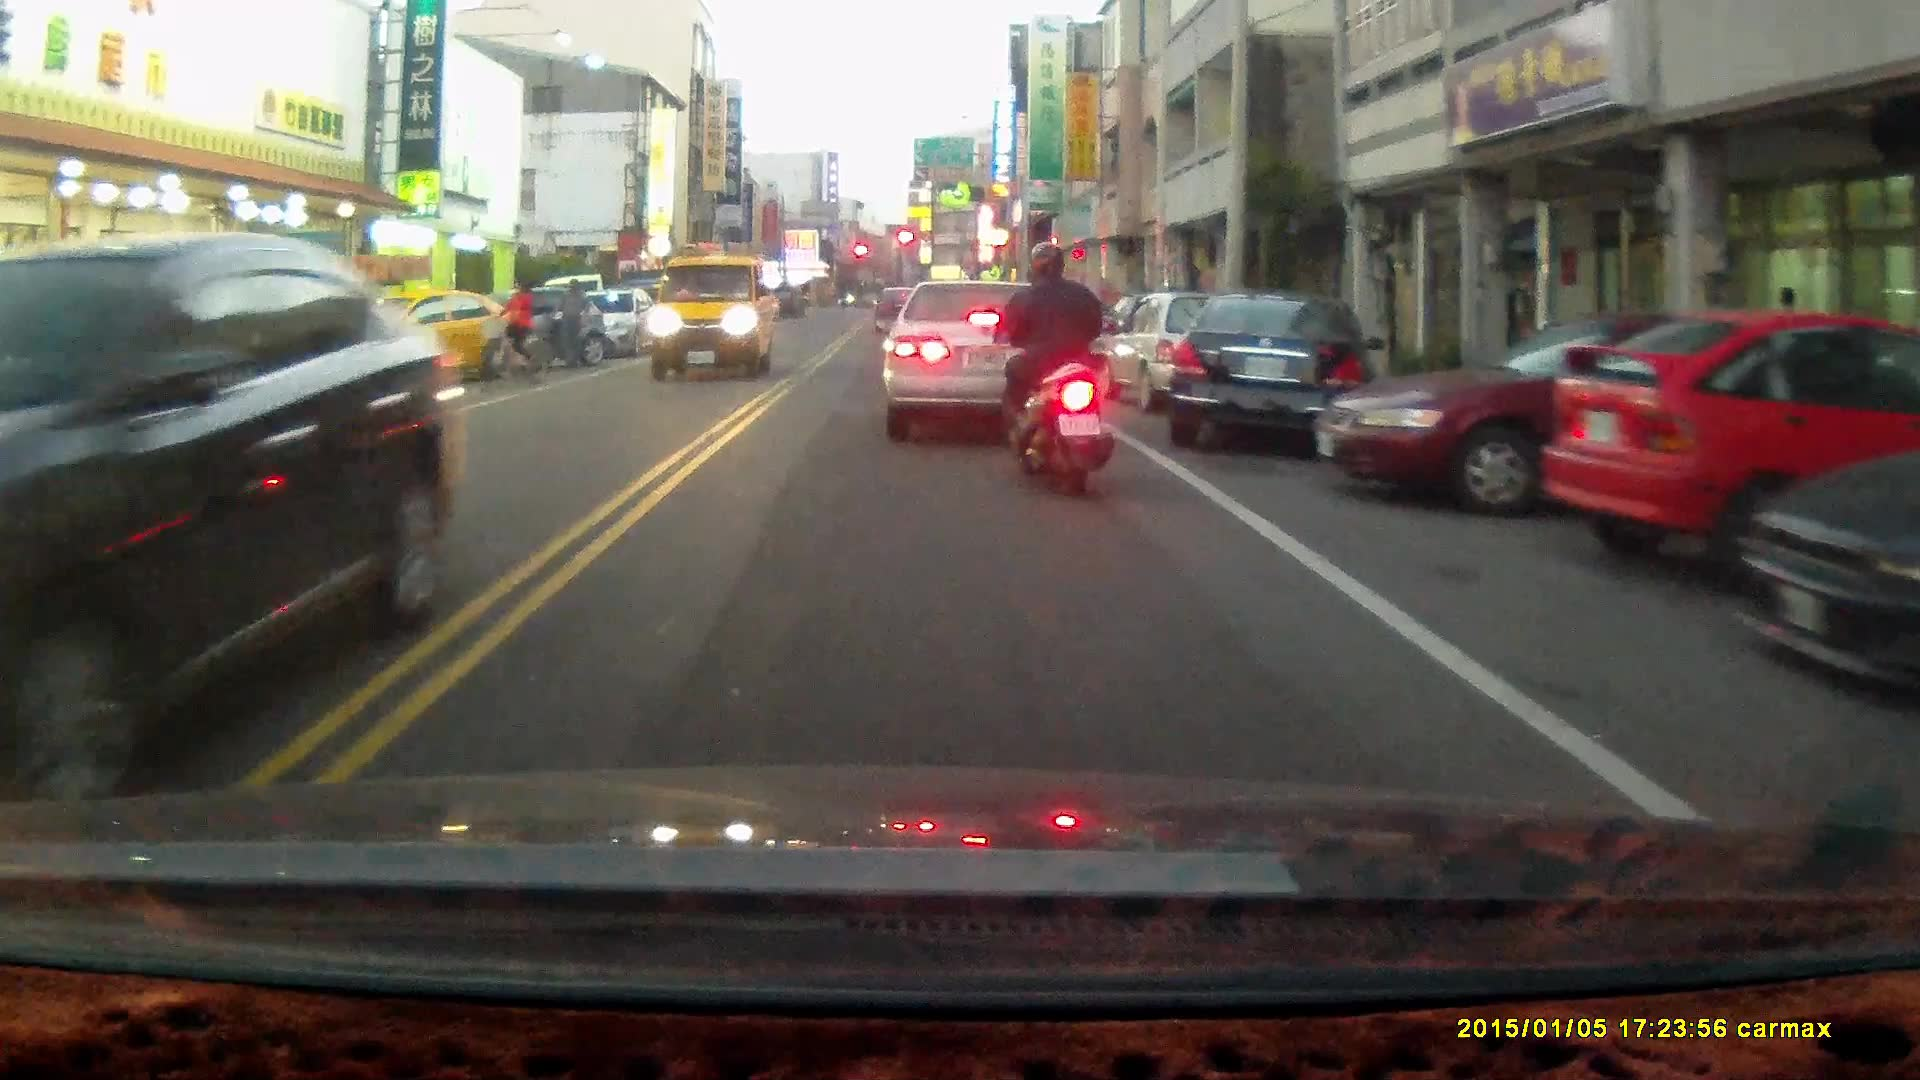pedestrian: (556, 277, 590, 372)
rider: (981, 241, 1119, 502), (479, 279, 550, 391)
vehicle: (1, 242, 443, 785), (1538, 310, 1920, 594), (1319, 308, 1789, 521), (1738, 390, 1920, 713), (1158, 292, 1369, 452), (882, 274, 1076, 431), (646, 251, 770, 383), (362, 290, 535, 384)
